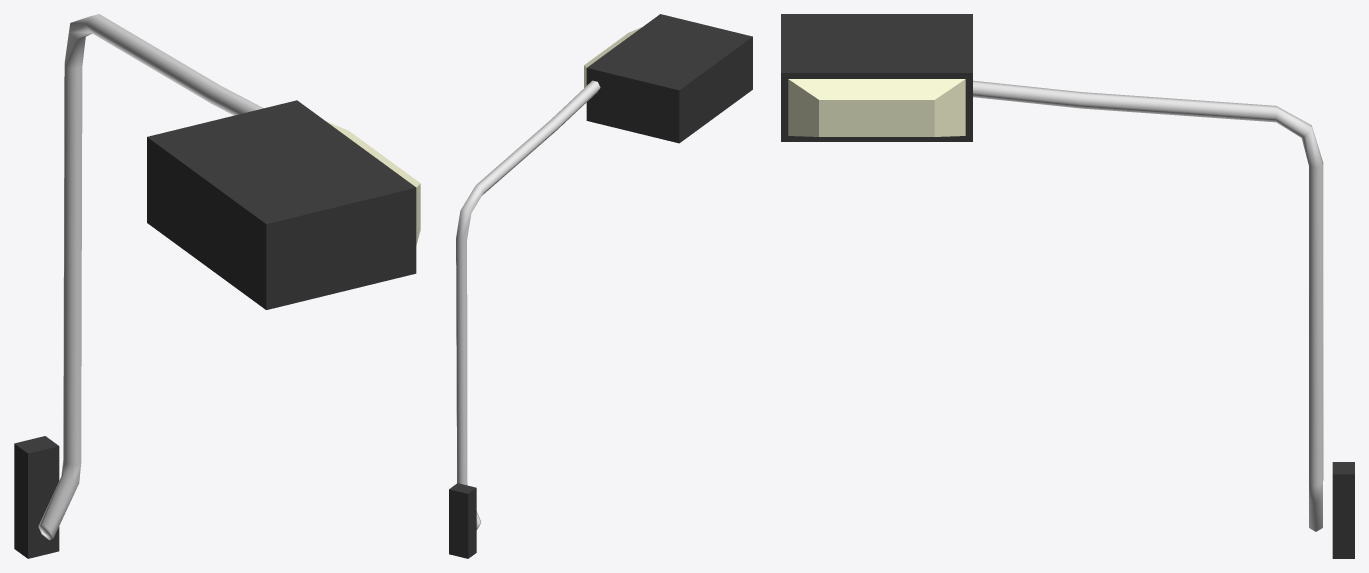
The model's file is SM_Lamp.fbx.
3 renders of one model, left to right at view 1: azimuth 30°, elevation 25°; view 2: azimuth 150°, elevation 25°; view 3: azimuth 270°, elevation 25°, orthographic. The views are drawn at different scales.
Visible parts, largest first — view 1: AM_Lamp; view 2: AM_Lamp; view 3: AM_Lamp.
Part boxes in pixels (bbox=[...]): AM_Lamp: bbox=[14, 14, 420, 558]; AM_Lamp: bbox=[449, 14, 752, 558]; AM_Lamp: bbox=[781, 14, 1354, 558].
Size of the model in its own units: 0.00321 by 0.0105 by 0.0111.
